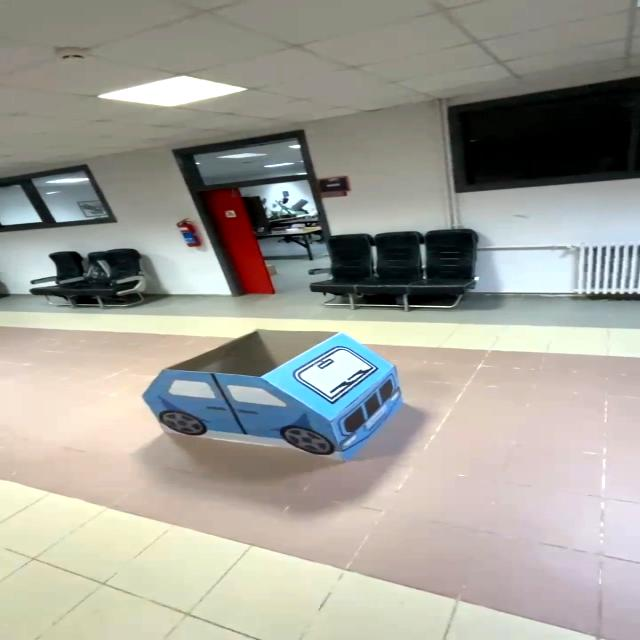blue_car: (123, 312, 437, 492)
